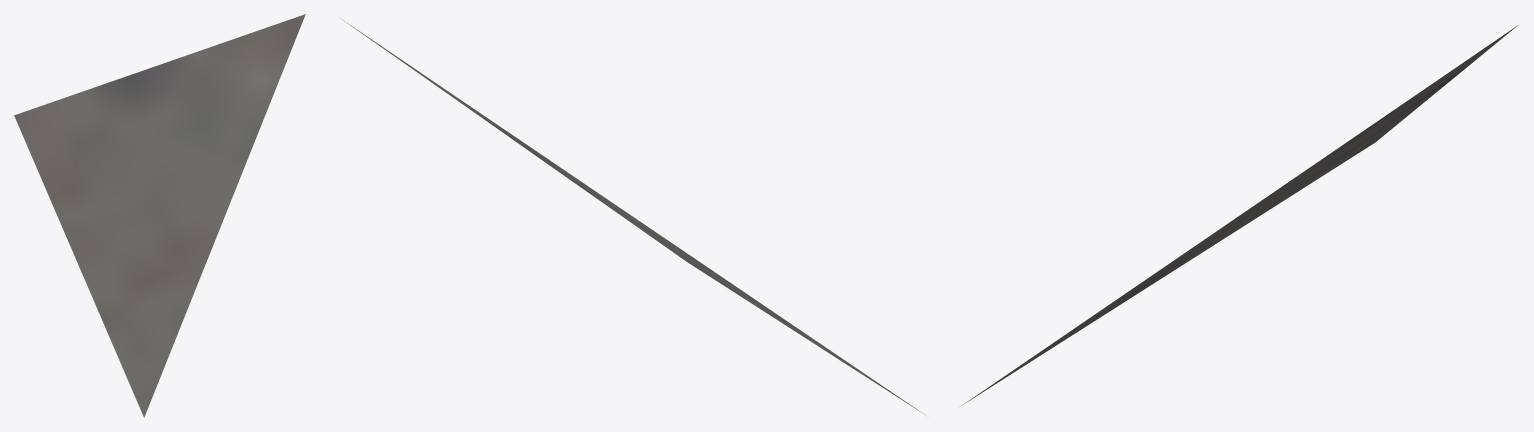
Rendered from Turret_01.glb.
3 views of the same model, side by side, from view 1: azimuth 30°, elevation 25°; view 2: azimuth 150°, elevation 25°; view 3: azimuth 270°, elevation 25° (orthographic). The views are drawn at different scales.
Visible parts, largest first — view 1: set_0_group_0; view 2: set_0_group_0; view 3: set_0_group_0.
Boxes of the visible parts, x1,y1,x2,y2 form: set_0_group_0: (14, 14, 305, 417); set_0_group_0: (342, 19, 924, 414); set_0_group_0: (963, 25, 1517, 404).
Size of the model in its own units: 0.0704 by 0.0664 by 0.0644.
1 material, 1 textured.
